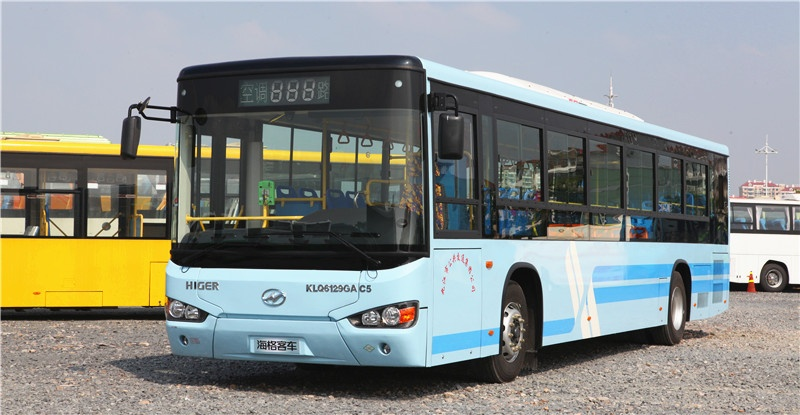bus: (124, 44, 738, 373)
